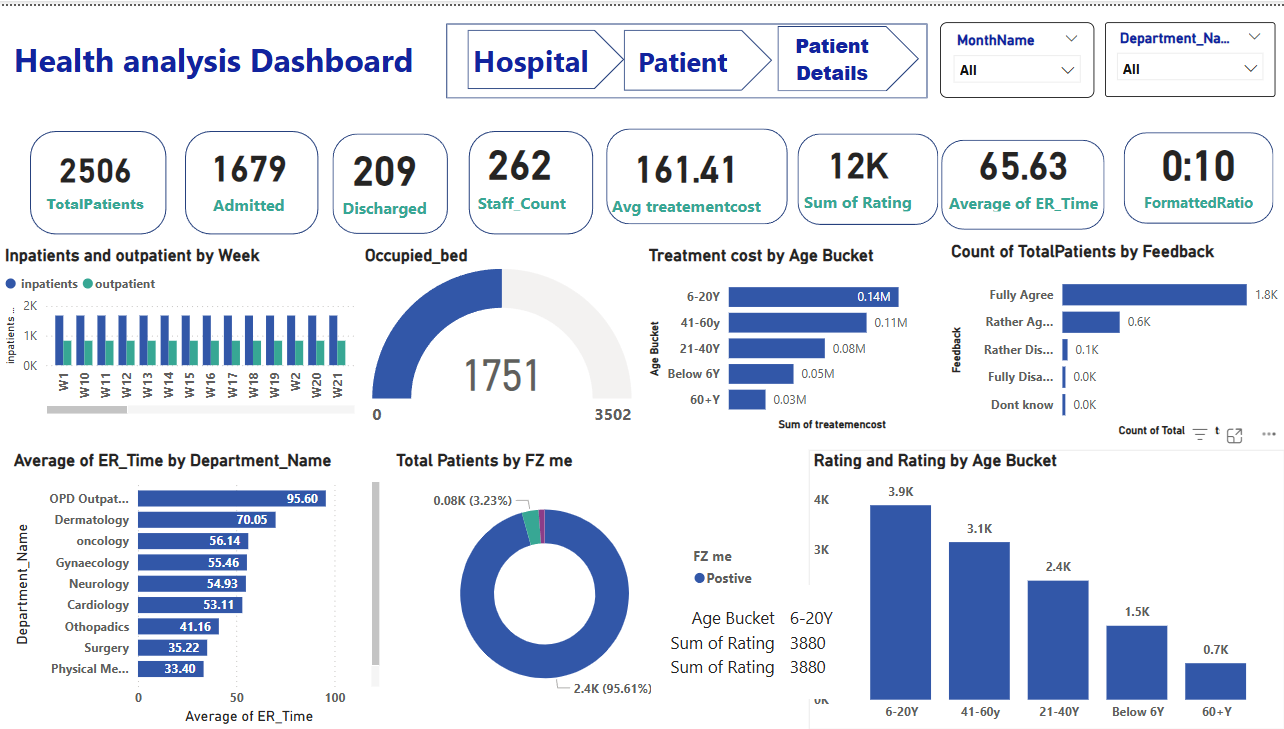

The dashboard page shown, as its layout file describes it:
{"tool":"powerbi","page":{"name":"Patient","canvas":[1280,720],"ordinal":1},"visuals":[{"type":"card","fields":{"Values":["CountNonNull(Detail data dataset.ID)"]},"box":[25.4,123.8,140.2,92.5],"z":0},{"type":"card","fields":{"Values":["Detail data dataset.Admitted"]},"box":[179,122.3,137.2,95.5],"z":1},{"type":"card","fields":{"Values":["Detail data dataset.Discharged"]},"box":[320.7,123.8,123.8,92.5],"z":2},{"type":"card","fields":{"Values":["CountNonNull(Staff_Detail.Staff_Id)"]},"box":[444.6,122.3,146.2,86.5],"z":3},{"type":"card","fields":{"Values":["Avg(Detail data dataset.treatemencost)"]},"box":[602.7,123.8,159.6,92.5],"z":4},{"type":"card","fields":{"Values":["Avg(Detail data dataset.ER_Time)"]},"box":[929.4,123.8,179,85],"z":5},{"type":"card","fields":{"Values":["Sum(Detail data dataset.Rating)"]},"box":[783.2,123.8,140.2,85],"z":6},{"type":"card","fields":{"Values":["Bed_Detail.FormattedRatio"]},"box":[1118.9,120.8,149.2,88],"z":7},{"type":"clusteredColumnChart","title":" Inpatients and outpatient by Week","fields":{"Category":["Calendar_date.WeekName"],"Y":["dateTable.weekly inpatients","Detail data dataset.outpatient"]},"box":[0,237.2,358,173.1],"z":8},{"type":"gauge","fields":{"Y":["Detail data dataset.Occupied_bed"]},"box":[357.7,237.6,282.8,189.8],"z":9},{"type":"clusteredBarChart","title":"Treatment cost by Age Bucket","fields":{"Y":["Sum(Detail data dataset.treatemencost)"],"Category":["Detail data dataset.Age Bucket"]},"box":[640.5,237.6,295.7,189.8],"z":10},{"type":"clusteredBarChart","fields":{"Y":["CountNonNull(Detail data dataset.ID)"],"Category":["Detail data dataset.Feedback"]},"box":[941.4,233.7,338.3,200.2],"z":11},{"type":"clusteredBarChart","fields":{"Y":["Avg(Detail data dataset.ER_Time)"],"Category":["Department.Department_Name"]},"box":[9.1,442.2,374.1,278.7],"z":12},{"type":"donutChart","title":" Total Patients by FZ me","fields":{"Y":["CountNonNull(Detail data dataset.TotalPatients)"],"Category":["Detail data dataset.FZ me"]},"box":[389.2,442.2,384.7,268.1],"z":13},{"type":"columnChart","title":" Rating and Rating by Age Bucket","fields":{"Y":["Sum(Detail data dataset.Rating)"],"Category":["Detail data dataset.Age Bucket"]},"box":[804.5,441.7,473.9,278.9],"z":14},{"type":"textbox","box":[9,25.8,413.2,59.4],"z":15},{"type":"slicer","fields":{"Values":["Calendar_date.MonthName"]},"box":[935,16.8,153.7,74.9],"z":16},{"type":"slicer","fields":{"Values":["Department.Department_Name"]},"box":[1099.5,16.7,169.6,74.2],"z":17},{"type":"shape","box":[29.8,123.8,135.8,102.9],"z":18},{"type":"shape","box":[183.5,123.8,132.8,102.9],"z":19},{"type":"shape","box":[331.2,126.8,114.9,100],"z":20},{"type":"shape","box":[466.9,123.8,123.8,102.9],"z":21},{"type":"shape","box":[602.7,122.3,180.5,95.5],"z":22},{"type":"shape","box":[793.7,126.8,140.2,91],"z":23},{"type":"shape","box":[936.9,132.8,162.6,89.5],"z":24},{"type":"shape","box":[1118.9,125.3,149.2,91],"z":25},{"type":"shape","box":[444.7,17.1,478.9,74.6],"z":26},{"type":"shape","box":[464.9,24.2,156,59.1],"z":27},{"type":"shape","box":[620.4,23.3,147.7,60.6],"z":28},{"type":"shape","box":[773.9,19.7,140.8,65.1],"z":29}]}

Visuals, with their boxes in screenshot pixels (x1, y1, x2, y2), scaled from the page's 1280x720 canvas onto the 1284x729 screenshot:
card - CountNonNull(Detail data dataset.ID): rect(25, 125, 166, 219)
card - Detail data dataset.Admitted: rect(180, 124, 317, 221)
card - Detail data dataset.Discharged: rect(322, 125, 446, 219)
card - CountNonNull(Staff_Detail.Staff_Id): rect(446, 124, 593, 211)
card - Avg(Detail data dataset.treatemencost): rect(605, 125, 765, 219)
card - Avg(Detail data dataset.ER_Time): rect(932, 125, 1112, 211)
card - Sum(Detail data dataset.Rating): rect(786, 125, 926, 211)
card - Bed_Detail.FormattedRatio: rect(1122, 122, 1272, 211)
" Inpatients and outpatient by Week" clusteredColumnChart: rect(0, 240, 359, 415)
gauge - Detail data dataset.Occupied_bed: rect(359, 241, 643, 433)
"Treatment cost by Age Bucket" clusteredBarChart: rect(643, 241, 939, 433)
clusteredBarChart - CountNonNull(Detail data dataset.ID) x Detail data dataset.Feedback: rect(944, 237, 1283, 439)
clusteredBarChart - Avg(Detail data dataset.ER_Time) x Department.Department_Name: rect(9, 448, 384, 728)
" Total Patients by FZ me" donutChart: rect(390, 448, 776, 719)
" Rating and Rating by Age Bucket" columnChart: rect(807, 447, 1282, 728)
textbox: rect(9, 26, 424, 86)
slicer - Calendar_date.MonthName: rect(938, 17, 1092, 93)
slicer - Department.Department_Name: rect(1103, 17, 1273, 92)
shape: rect(30, 125, 166, 230)
shape: rect(184, 125, 317, 230)
shape: rect(332, 128, 447, 230)
shape: rect(468, 125, 593, 230)
shape: rect(605, 124, 786, 221)
shape: rect(796, 128, 937, 221)
shape: rect(940, 134, 1103, 225)
shape: rect(1122, 127, 1272, 219)
shape: rect(446, 17, 926, 93)
shape: rect(466, 25, 623, 84)
shape: rect(622, 24, 771, 85)
shape: rect(776, 20, 918, 86)
